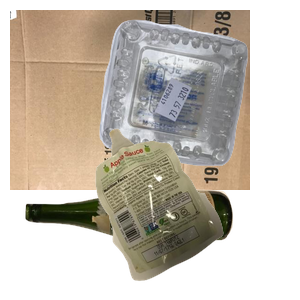cardboard: (10, 10, 250, 190)
glass: (23, 186, 249, 300)
plastic: (97, 17, 300, 176)
trash: (93, 126, 300, 300)
